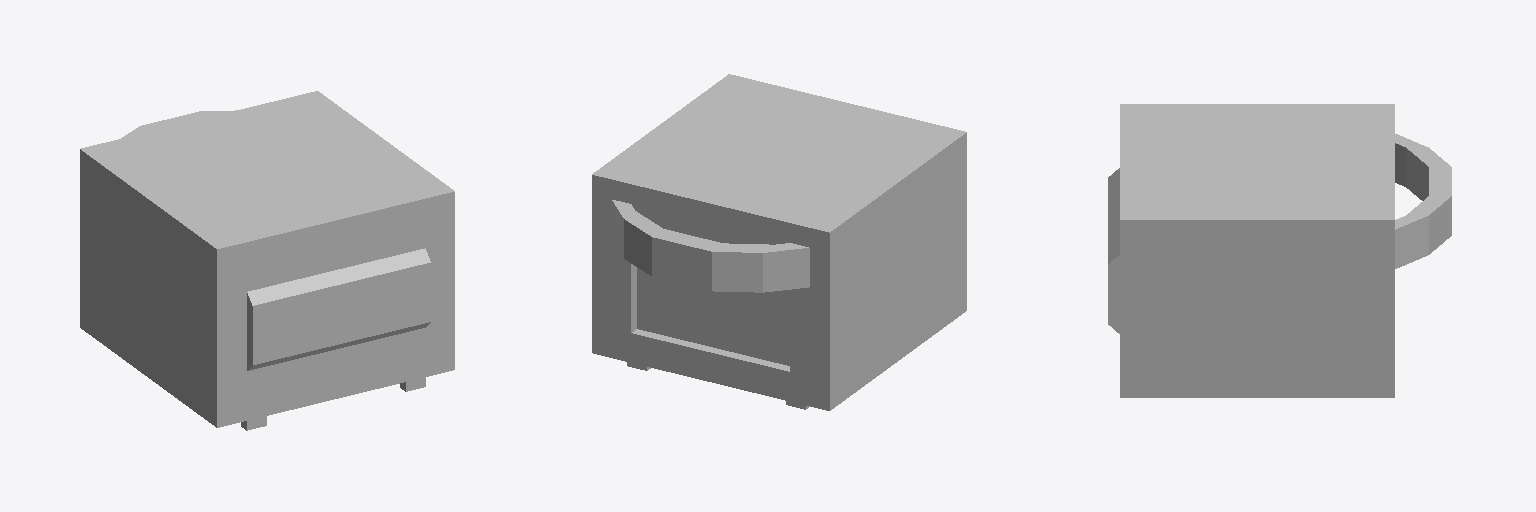
Rendered from gamecube.obj.
3 renders of one model, left to right at view 1: azimuth 30°, elevation 25°; view 2: azimuth 150°, elevation 25°; view 3: azimuth 270°, elevation 25°, orthographic.
Visible parts, largest first — view 1: Cube.001_Cube.003; view 2: Cube.001_Cube.003; view 3: Cube.001_Cube.003.
Boxes of the visible parts, box(x1,y1,x2,y2) form: Cube.001_Cube.003: box(80, 91, 454, 430); Cube.001_Cube.003: box(592, 74, 966, 410); Cube.001_Cube.003: box(1108, 104, 1451, 397).
Size of the model in its own units: 0.6278 by 0.475 by 0.7848.